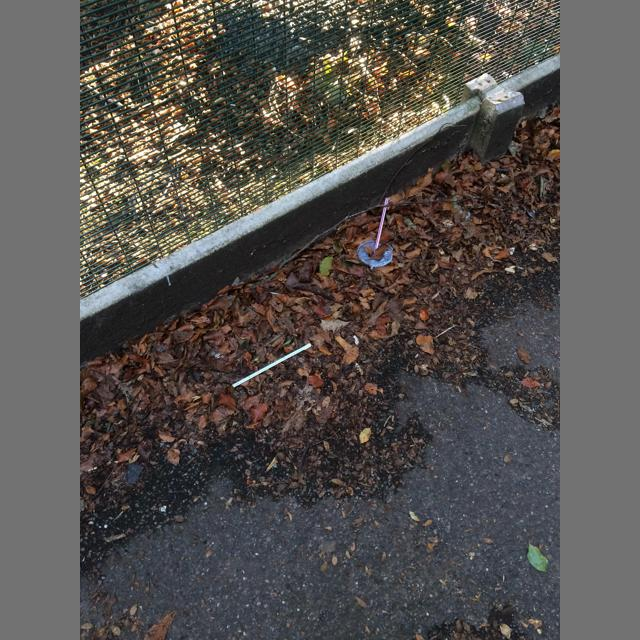litter: (232, 343, 311, 387), (369, 198, 388, 269), (357, 241, 393, 267)
